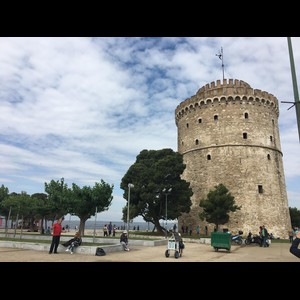White Tower: (168, 49, 291, 243)
